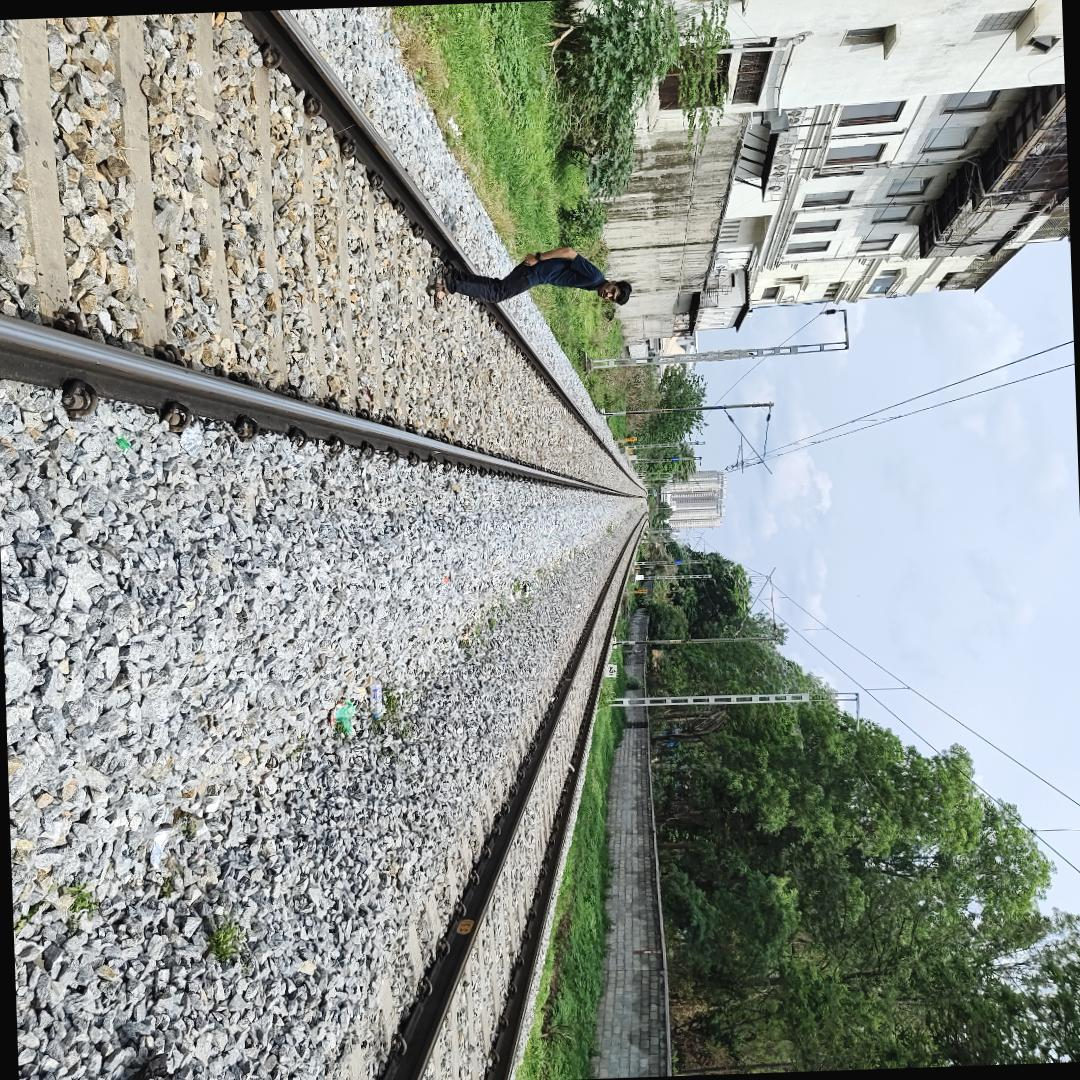standing: (412, 239, 649, 319)
track: (0, 7, 651, 513), (353, 508, 659, 1080)
